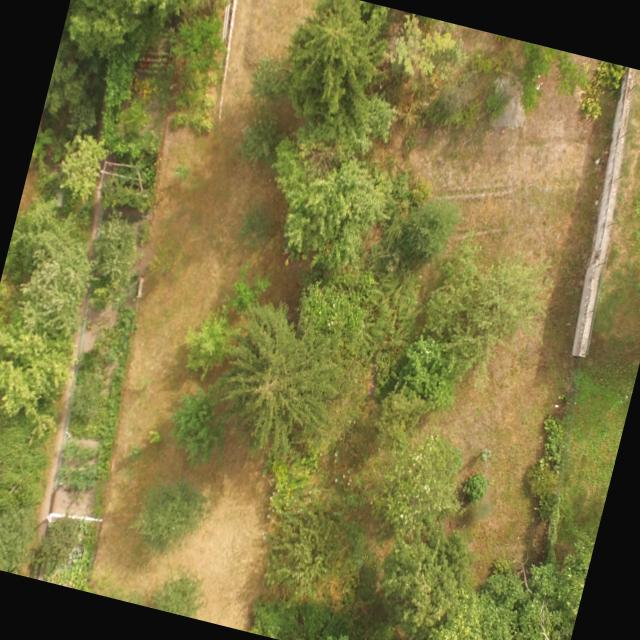trees: (151, 125, 539, 640), (183, 243, 388, 488), (233, 0, 449, 192), (0, 170, 120, 420), (472, 32, 596, 115), (168, 387, 233, 465), (69, 0, 208, 33)
